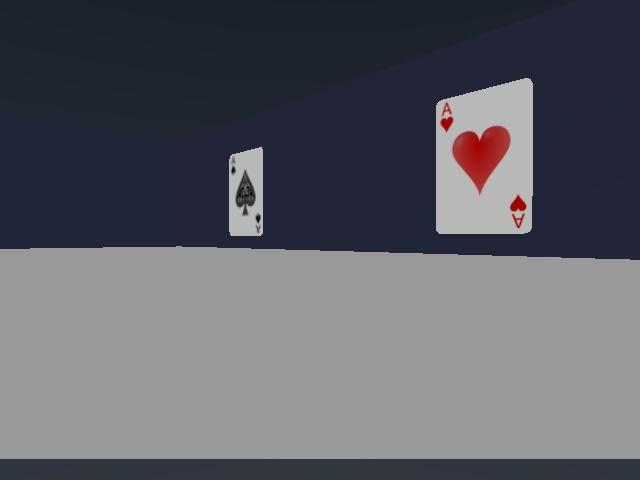heart: (436, 79, 533, 234)
spade: (229, 148, 263, 235)
